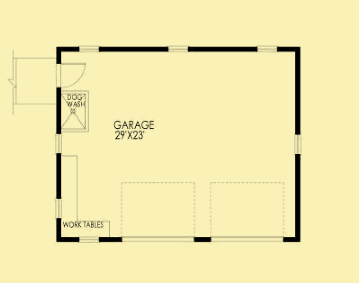door: (56, 63, 87, 89)
window: (76, 236, 103, 245), (54, 198, 64, 220), (164, 44, 189, 52), (78, 45, 100, 54), (294, 133, 302, 156), (254, 46, 279, 53), (56, 132, 62, 155)
